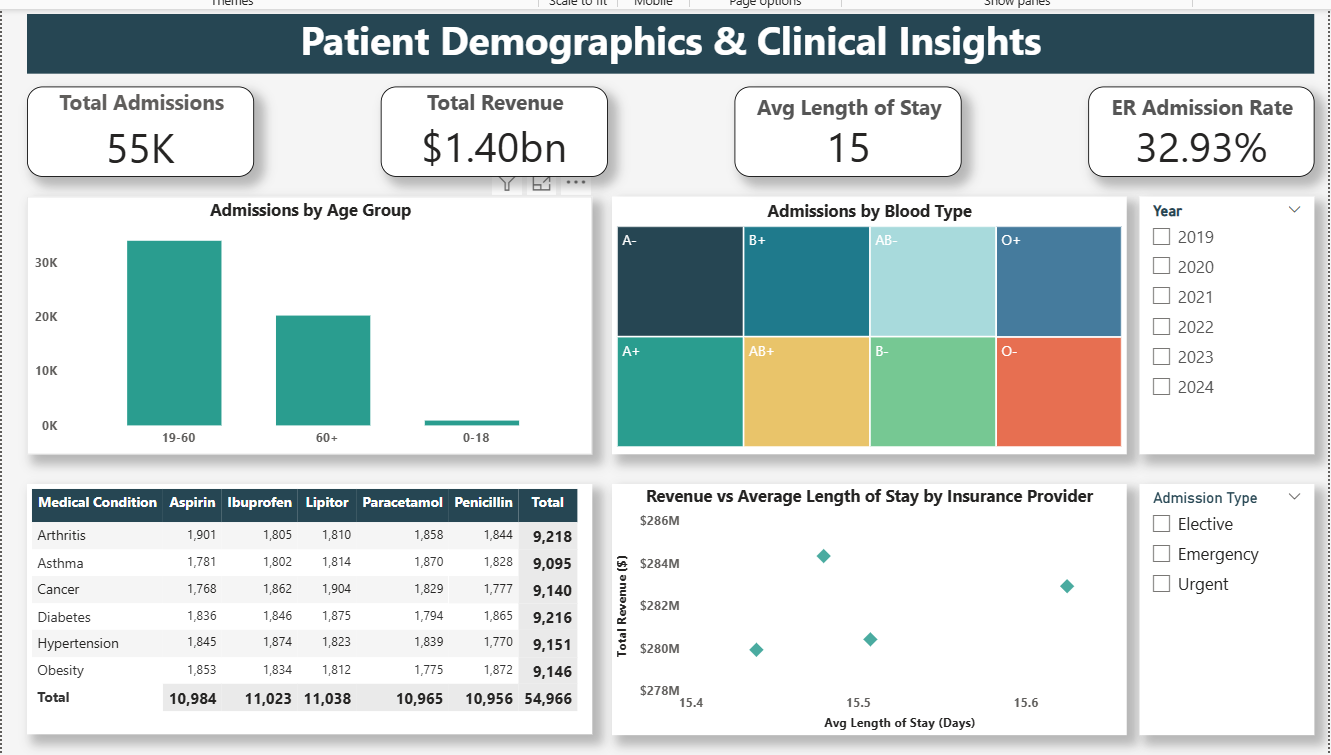

Layout of this report page (visuals, bound fields, positions):
{"tool":"powerbi","page":{"name":"Patient & Treatment Insights","canvas":[1280,720],"ordinal":1},"visuals":[{"type":"clusteredColumnChart","title":"Admissions by Age Group","fields":{"Y":["Key Metrics.Total Admissions"],"Category":["healthcare_dataset.Age Group"]},"box":[24.1,181,545.3,248.5],"z":0},{"type":"treemap","title":"Admissions by Blood Type","fields":{"Group":["healthcare_dataset.Blood Type"],"Values":["Key Metrics.Total Admissions"]},"box":[588.7,181,497.1,248.5],"z":1000},{"type":"pivotTable","fields":{"Values":["Key Metrics.Total Admissions"],"Rows":["healthcare_dataset.Medical Condition"],"Columns":["healthcare_dataset.Medication"]},"box":[24.1,458.4,545.3,241.3],"z":2000},{"type":"scatterChart","title":"Revenue vs Average Length of Stay by Insurance Provider","fields":{"Y":["Key Metrics.Total Revenue"],"X":["Key Metrics.Avg Length of Stay"],"Category":["healthcare_dataset.Insurance Provider"]},"box":[588.7,458.4,497.1,242.5],"z":3000},{"type":"card","title":"Total Admissions","fields":{"Values":["Key Metrics.Total Admissions"]},"box":[24.1,75,219.6,86.9],"z":4000},{"type":"card","title":"Total Revenue","fields":{"Values":["Key Metrics.Total Revenue"]},"box":[365.6,74.8,219.6,86.9],"z":5000},{"type":"card","title":"Avg Length of Stay","fields":{"Values":["Key Metrics.Avg Length of Stay"]},"box":[707,74.8,219.6,86.9],"z":6000},{"type":"card","title":"ER Admission Rate","fields":{"Values":["Key Metrics.ER Admission Rate"]},"box":[1048.4,75,218.4,86.9],"z":7000},{"type":"slicer","fields":{"Values":["healthcare_dataset.Admission Type"]},"box":[1097.9,458.4,168.9,242.5],"z":8000},{"type":"slicer","fields":{"Values":["Calendar.Year"]},"box":[1097.9,181,168.9,248.5],"z":9000},{"type":"textbox","box":[24.1,4.8,1242.6,57.9],"z":10000}]}

Visuals, with their boxes on the page's 1280x720 design canvas (x1, y1, x2, y2). These are canvas units, not pixel positions in the 1331x755 screenshot, which may show the page scaled, cropped or inside an application window:
"Admissions by Age Group" clusteredColumnChart: (x1=24, y1=181, x2=569, y2=430)
"Admissions by Blood Type" treemap: (x1=589, y1=181, x2=1086, y2=430)
pivotTable - Key Metrics.Total Admissions x healthcare_dataset.Medical Condition: (x1=24, y1=458, x2=569, y2=700)
"Revenue vs Average Length of Stay by Insurance Provider" scatterChart: (x1=589, y1=458, x2=1086, y2=701)
"Total Admissions" card: (x1=24, y1=75, x2=244, y2=162)
"Total Revenue" card: (x1=366, y1=75, x2=585, y2=162)
"Avg Length of Stay" card: (x1=707, y1=75, x2=927, y2=162)
"ER Admission Rate" card: (x1=1048, y1=75, x2=1267, y2=162)
slicer - healthcare_dataset.Admission Type: (x1=1098, y1=458, x2=1267, y2=701)
slicer - Calendar.Year: (x1=1098, y1=181, x2=1267, y2=430)
textbox: (x1=24, y1=5, x2=1267, y2=63)
